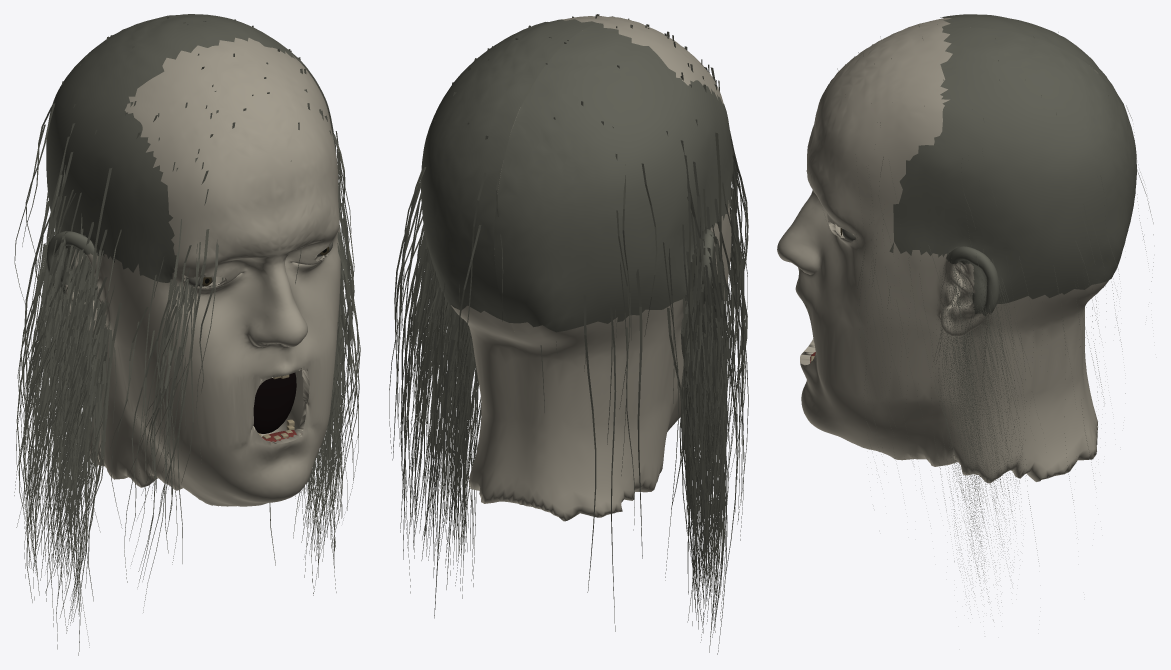
The model's file is granny-head.glb.
The picture shows the model from 3 angles, left to right: view 1: azimuth 30°, elevation 25°; view 2: azimuth 150°, elevation 25°; view 3: azimuth 270°, elevation 25°; orthographic projection. The views are drawn at different scales.
Visible parts, largest first — view 1: Scannedagedvisitorskin, Dirtygreyhairfibres, Deeporalcavity; view 2: Dirtygreyhairfibres, Scannedagedvisitorskin; view 3: Scannedagedvisitorskin, Dirtygreyhairfibres.
Boxes of the visible parts, <box> form: Scannedagedvisitorskin: <box>62,37,340,506</box>; Dirtygreyhairfibres: <box>14,14,360,655</box>; Deeporalcavity: <box>253,372,296,433</box>; Dirtygreyhairfibres: <box>389,14,748,654</box>; Scannedagedvisitorskin: <box>451,16,731,521</box>; Scannedagedvisitorskin: <box>777,18,1108,483</box>; Dirtygreyhairfibres: <box>837,14,1153,620</box>.
Bounding box in the file's own units: 0.4305 × 0.7511 × 0.4514.
